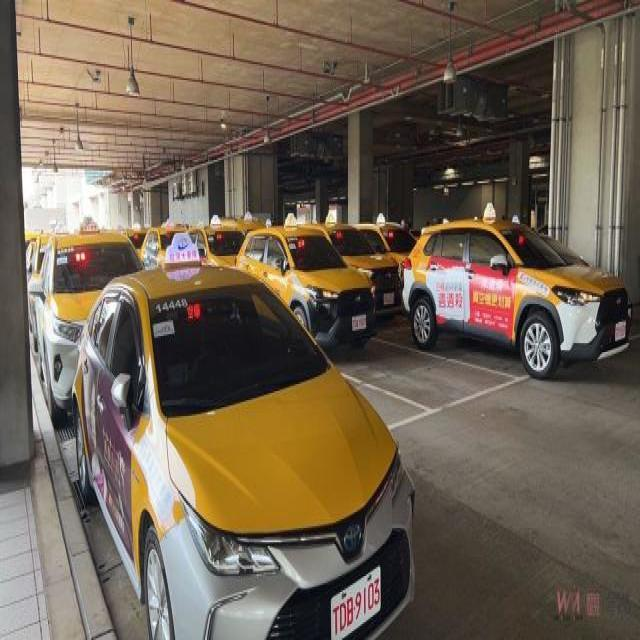Door: (404, 220, 631, 377), (29, 236, 140, 419), (236, 227, 375, 344)
Taxi: (72, 267, 414, 638)
